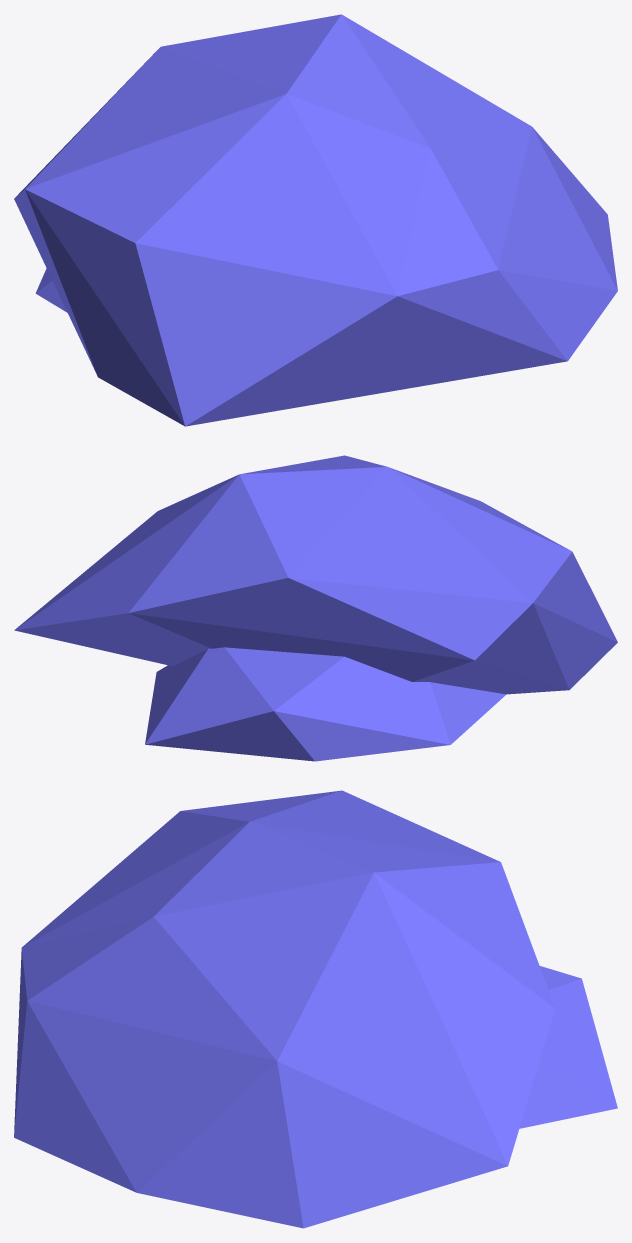
The model's file is Obstacle_11_Colllider_01.FBX.
3 views of the same model, one above another, from view 1: azimuth 30°, elevation 25°; view 2: azimuth 150°, elevation 25°; view 3: azimuth 270°, elevation 25° (orthographic). The views are drawn at different scales.
Parts seen in each view (by area): view 1: COLLIDER1; view 2: COLLIDER1, COLLIDER2; view 3: COLLIDER1, COLLIDER2.
Boxes of the visible parts, x1,y1,x2,y2 form: COLLIDER1: (14,14,617,426); COLLIDER1: (14,455,617,694); COLLIDER2: (145,647,506,761); COLLIDER1: (14,790,555,1228); COLLIDER2: (519,966,617,1128).
Bounding box in the file's own units: 91.22 × 35.83 × 81.99.
